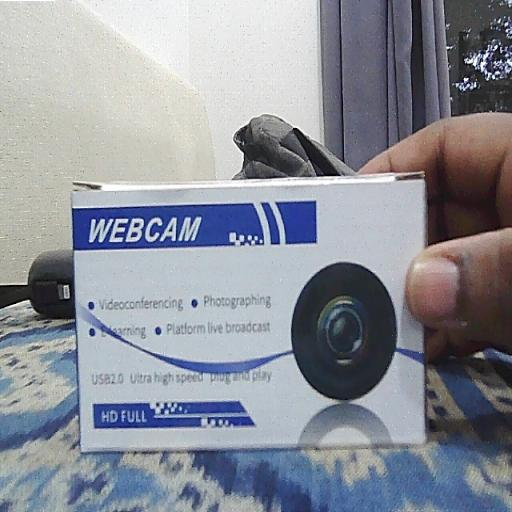webcam_box: (70, 172, 428, 454)
